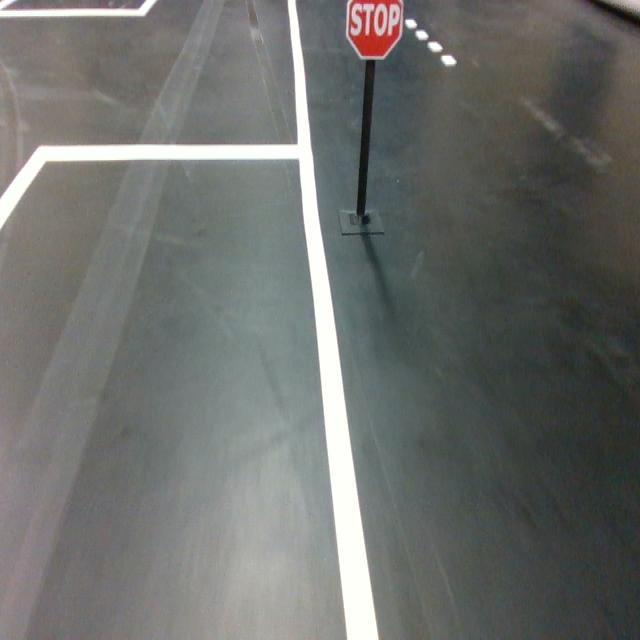stop-sign: (346, 0, 404, 61)
